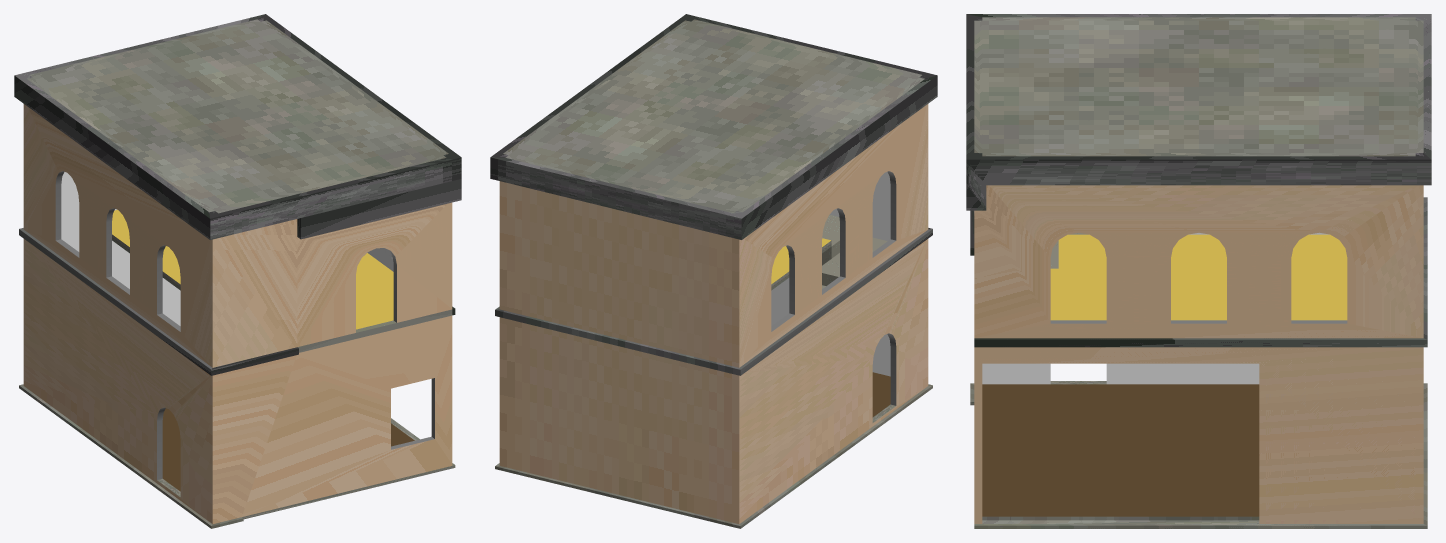
Rendered from CsSeBuilding-room0.glb.
3 renders of one model, left to right at view 1: azimuth 30°, elevation 25°; view 2: azimuth 150°, elevation 25°; view 3: azimuth 270°, elevation 25°, orthographic. The views are drawn at different scales.
Visible parts, largest first — view 1: Room0; view 2: Room0, Room0Stair; view 3: Room0.
Part boxes in pixels (box(x1,y1,x2,y2)): Room0: box(14, 14, 461, 528); Room0: box(490, 14, 937, 528); Room0Stair: box(822, 214, 887, 288); Room0: box(966, 14, 1431, 528).
Bounding box in the file's own units: 8.6 × 10.2 × 11.6.
7 materials, 3 textured.
